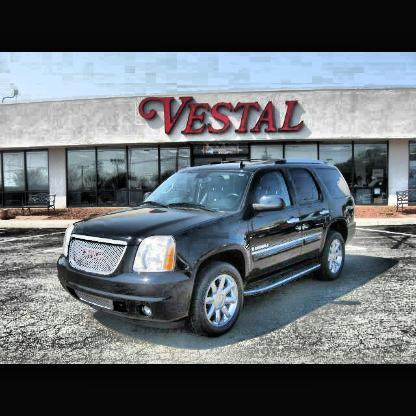GMC Yukon Hybrid SUV 2012: (60, 159, 357, 338)
